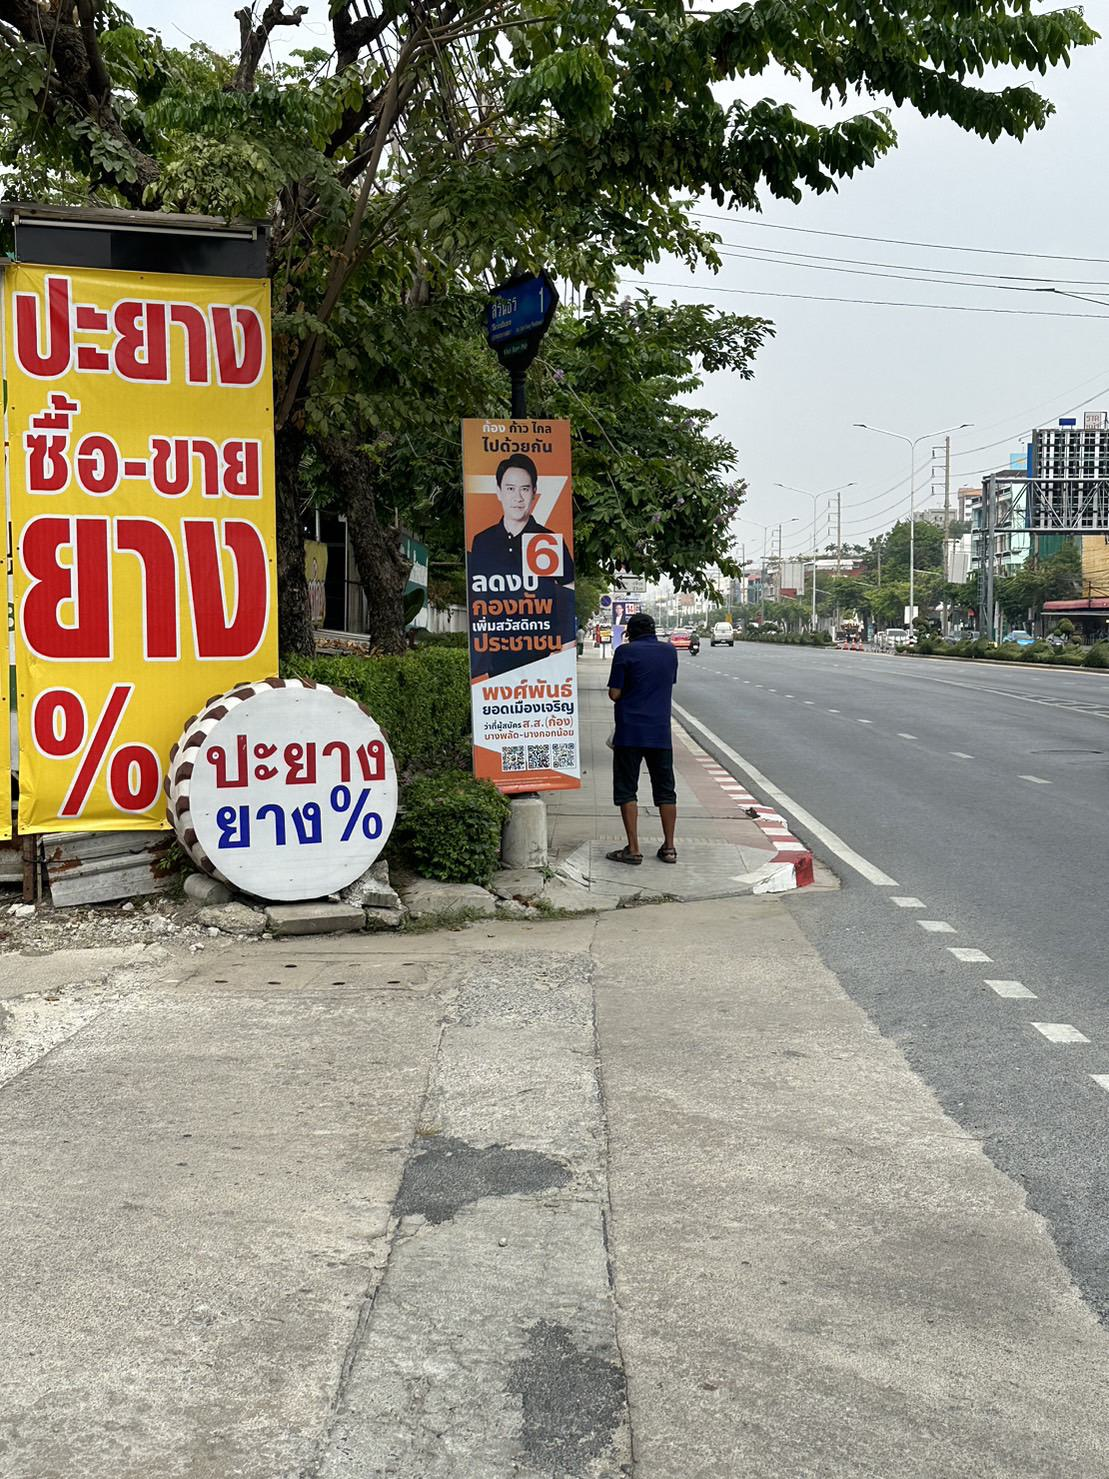Banner: (457, 417, 587, 804)
